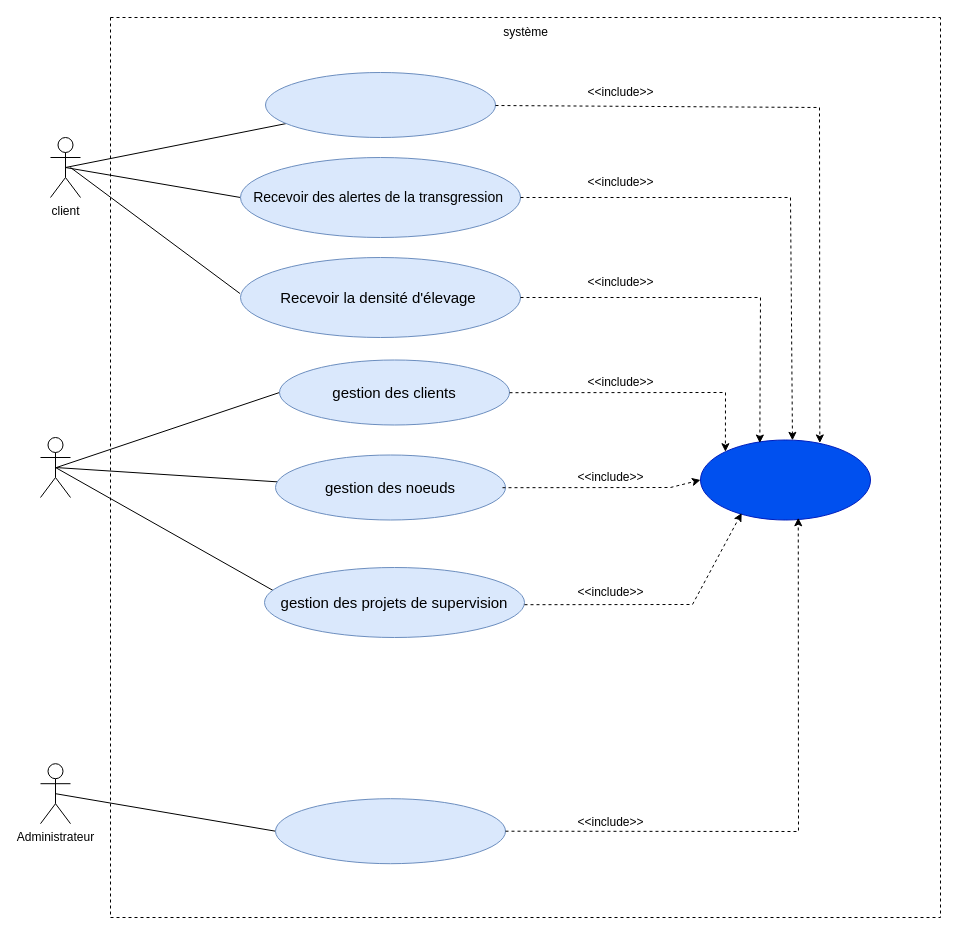
Image size: 958x935. Some labels were removed from this diagram. Each missing label, with the centre of its shape:
"Consulter Dashboard" belongs at point (380, 105).
"Gestion des superviseurs" belongs at point (390, 831).
"S'authentifier" belongs at point (785, 479).
"Superviseur" belongs at point (55, 467).
